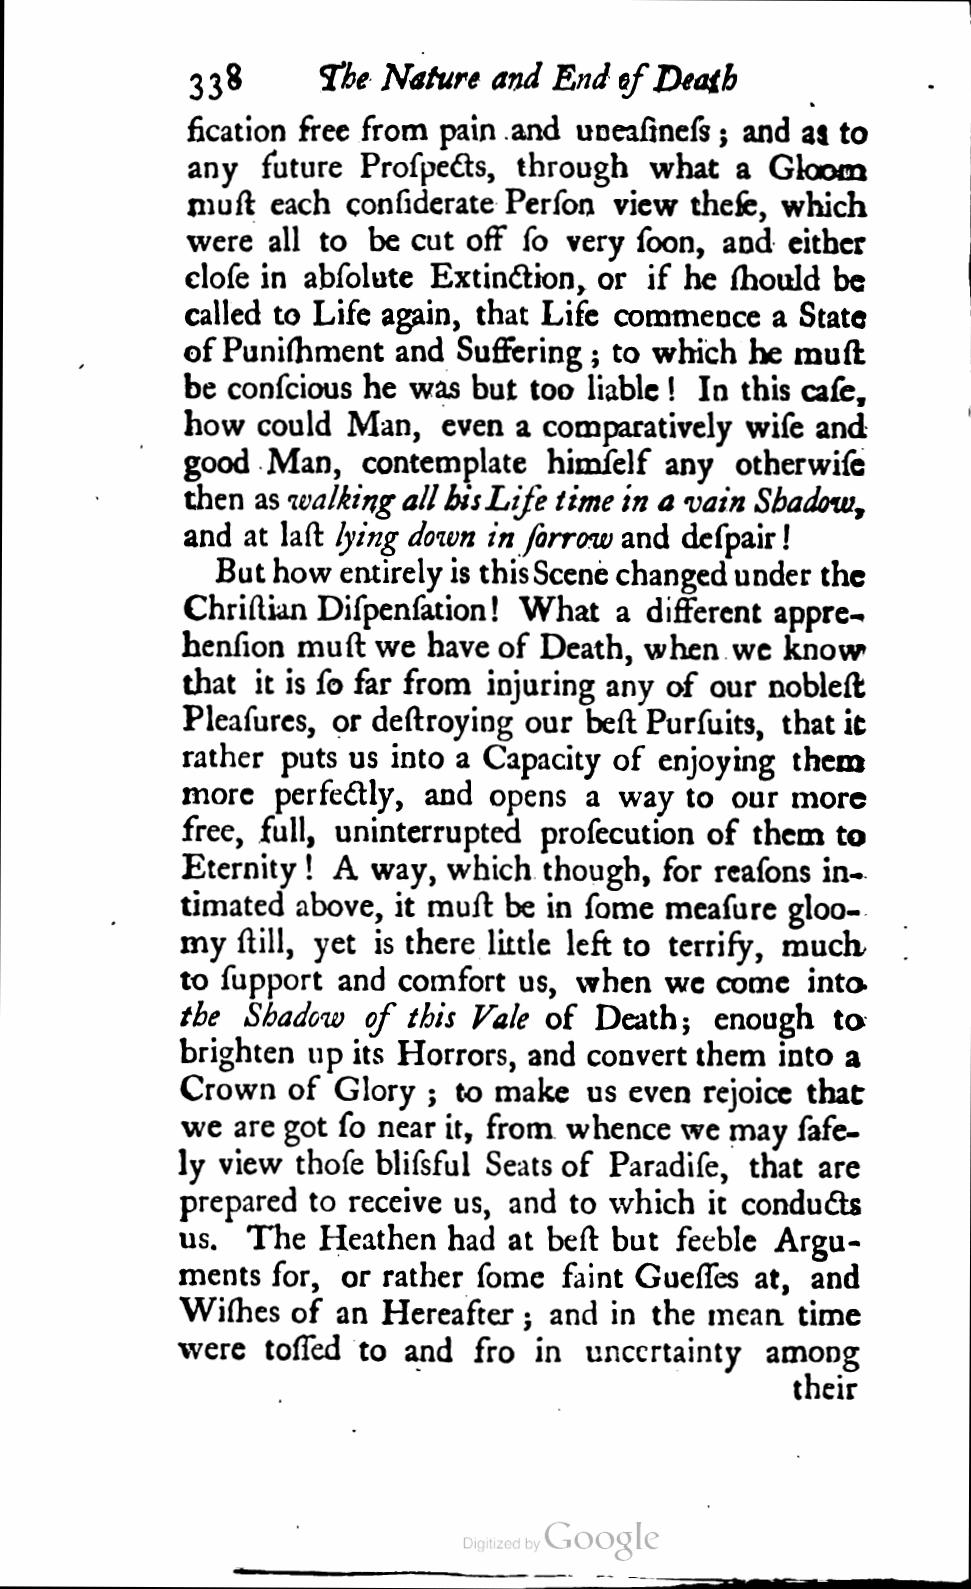bottom_p: (186, 112, 873, 558)
catchword: (784, 1368, 866, 1410)
header: (312, 54, 744, 102)
page_num: (181, 54, 246, 106)
top_p: (184, 552, 860, 1372)
